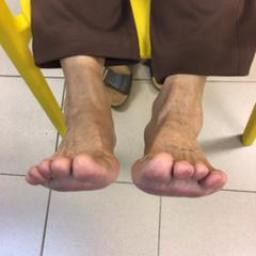Front View -Both Feet-: (14, 80, 242, 217)
